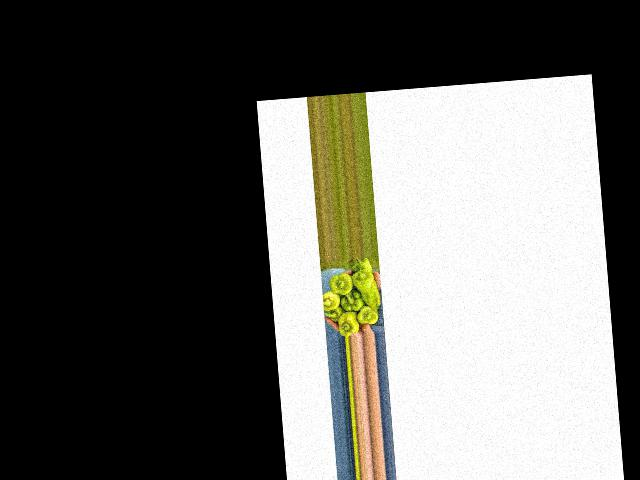bell_pepper: (334, 310, 358, 336)
